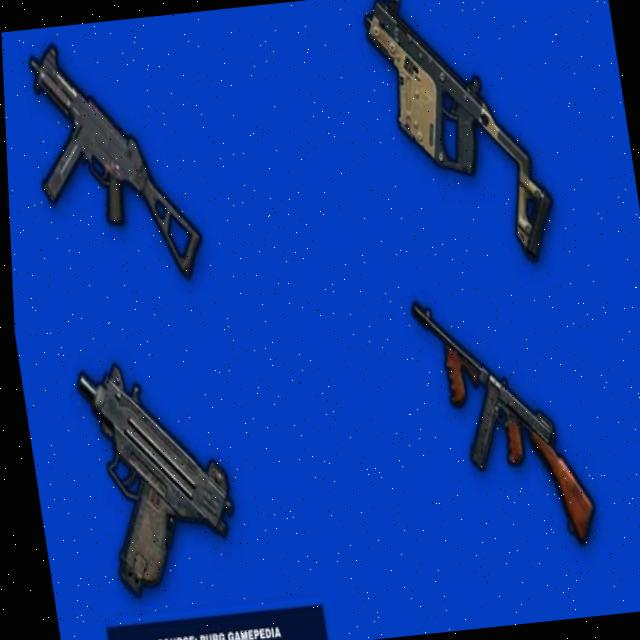firearm: (359, 0, 560, 274), (406, 284, 593, 556), (21, 32, 204, 288), (70, 350, 241, 602)
